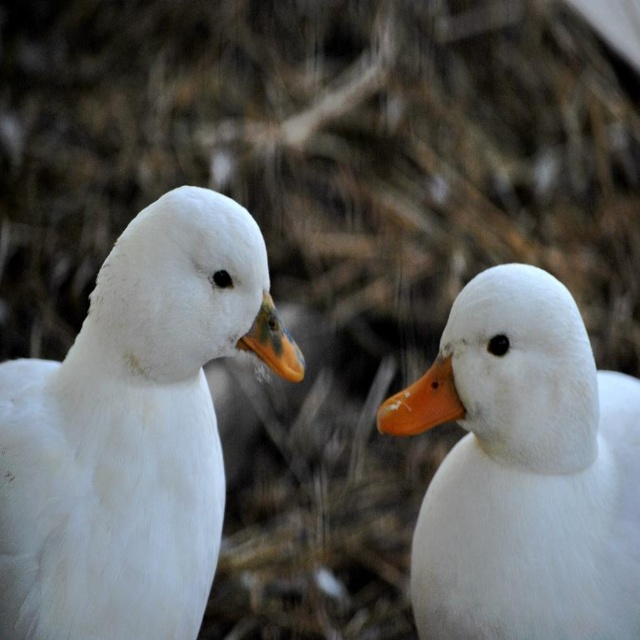Goose: (0, 191, 305, 639), (380, 268, 626, 630)
